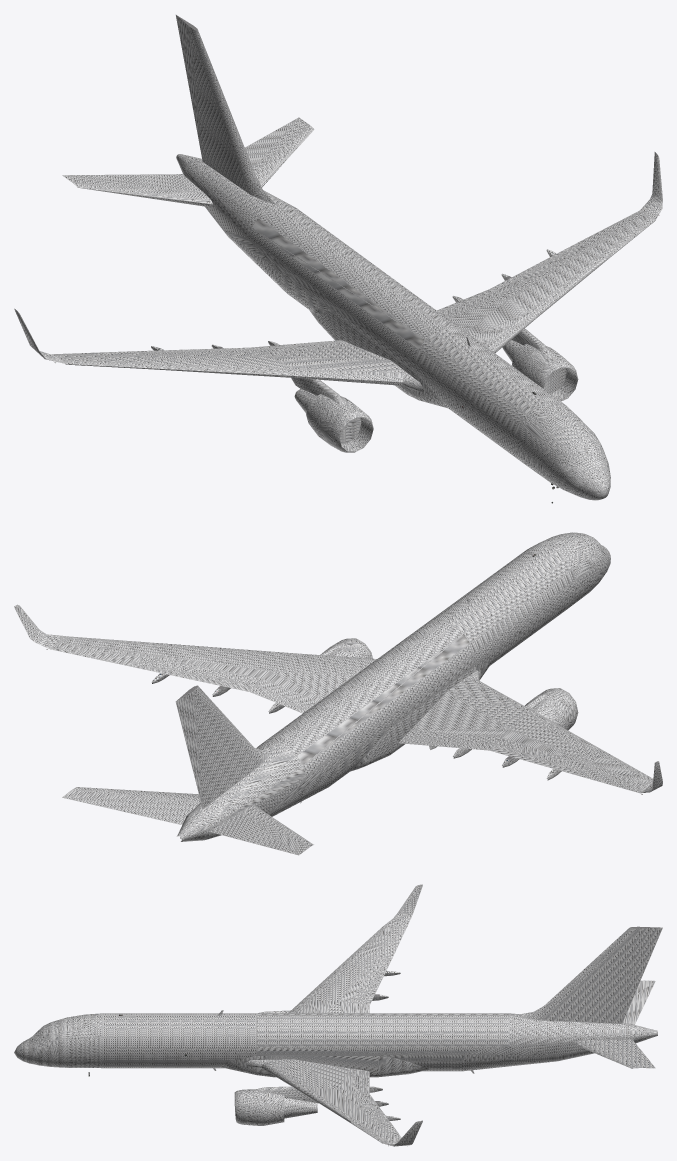
File: AIG_B757-200_PW_W_LOD1.gltf
3 renders of one model, top to bottom at view 1: azimuth 30°, elevation 25°; view 2: azimuth 150°, elevation 25°; view 3: azimuth 270°, elevation 25°, orthographic. The views are drawn at different scales.
Visible parts, largest first — view 1: fuselage_PW_low_LOD; view 2: fuselage_PW_low_LOD; view 3: fuselage_PW_low_LOD.
Boxes of the visible parts, left/top/right/bottom form: fuselage_PW_low_LOD: left=14, top=15, right=662, bottom=500; fuselage_PW_low_LOD: left=14, top=532, right=662, bottom=855; fuselage_PW_low_LOD: left=14, top=884, right=662, bottom=1146.
Bounding box in the file's own units: 40.78 × 12.91 × 47.34.
